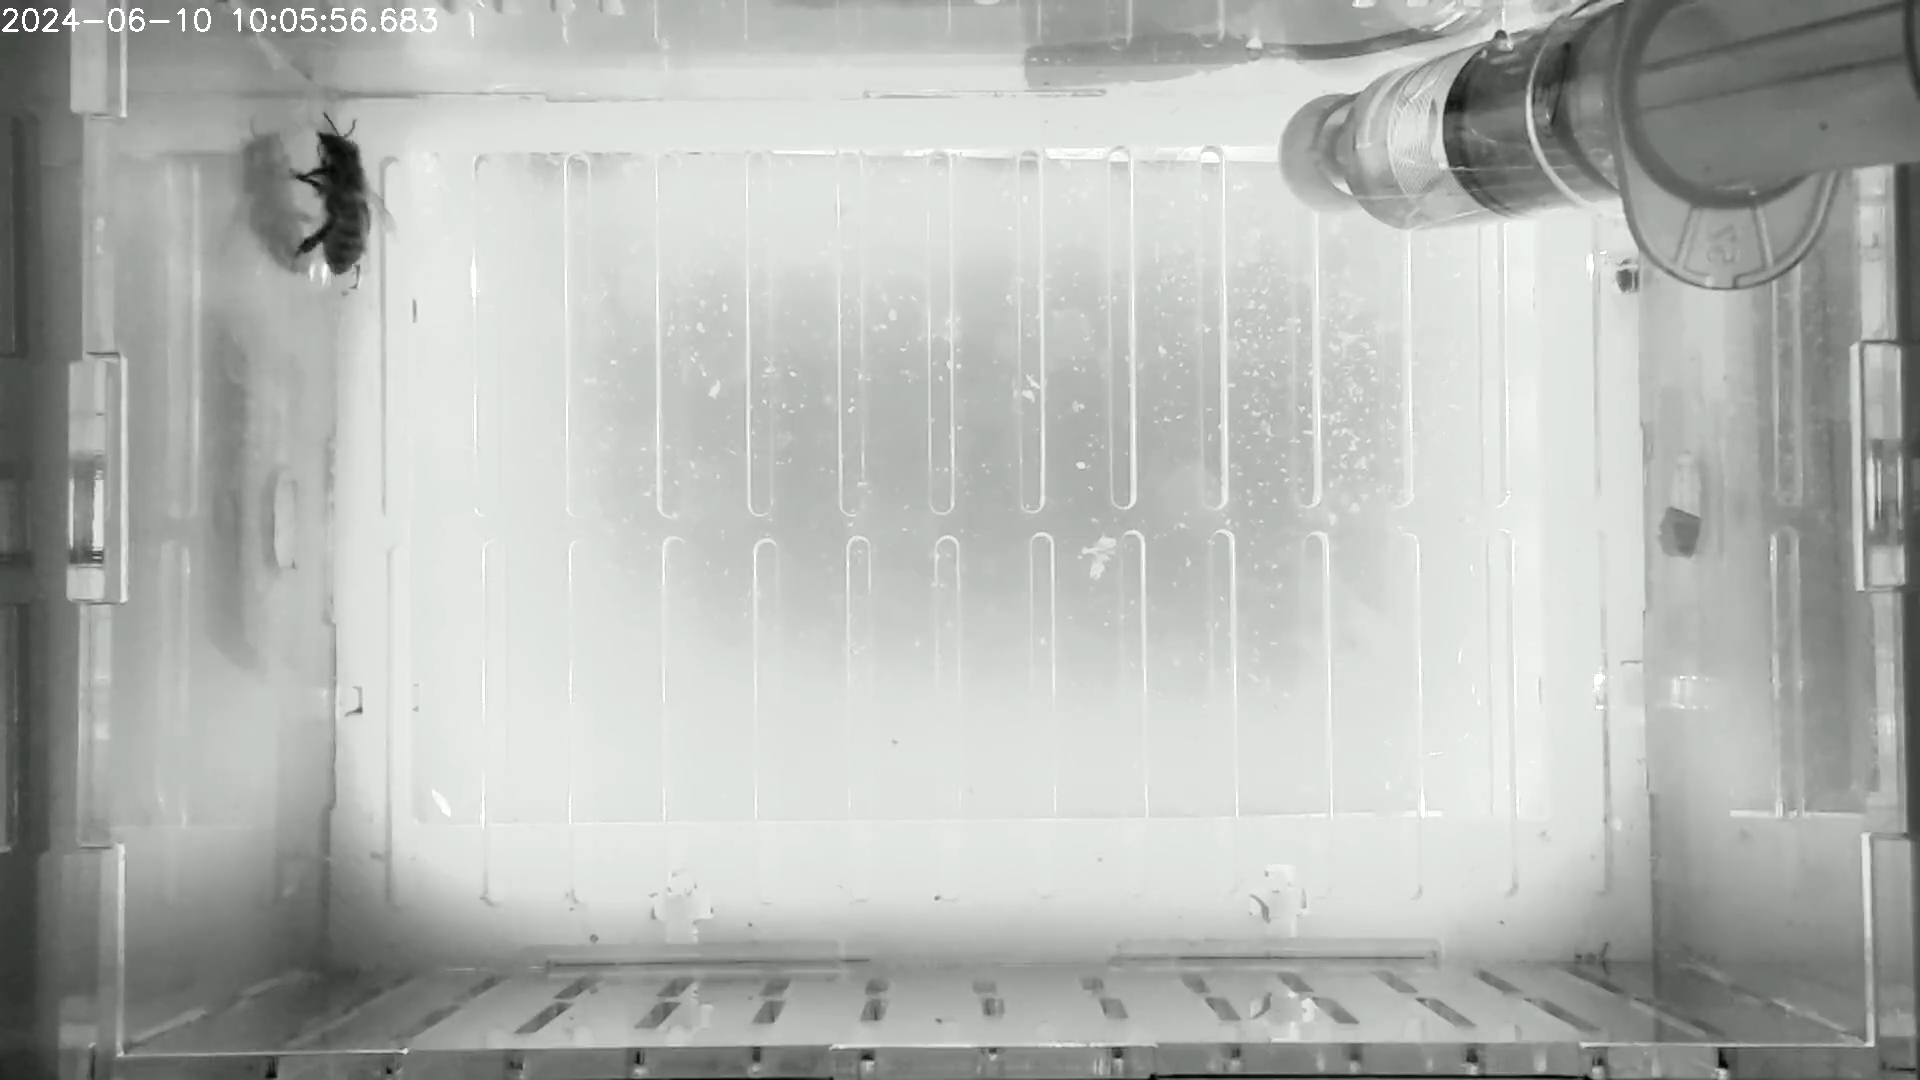bee: (277, 104, 403, 298)
feeder: (1346, 22, 1588, 238)
